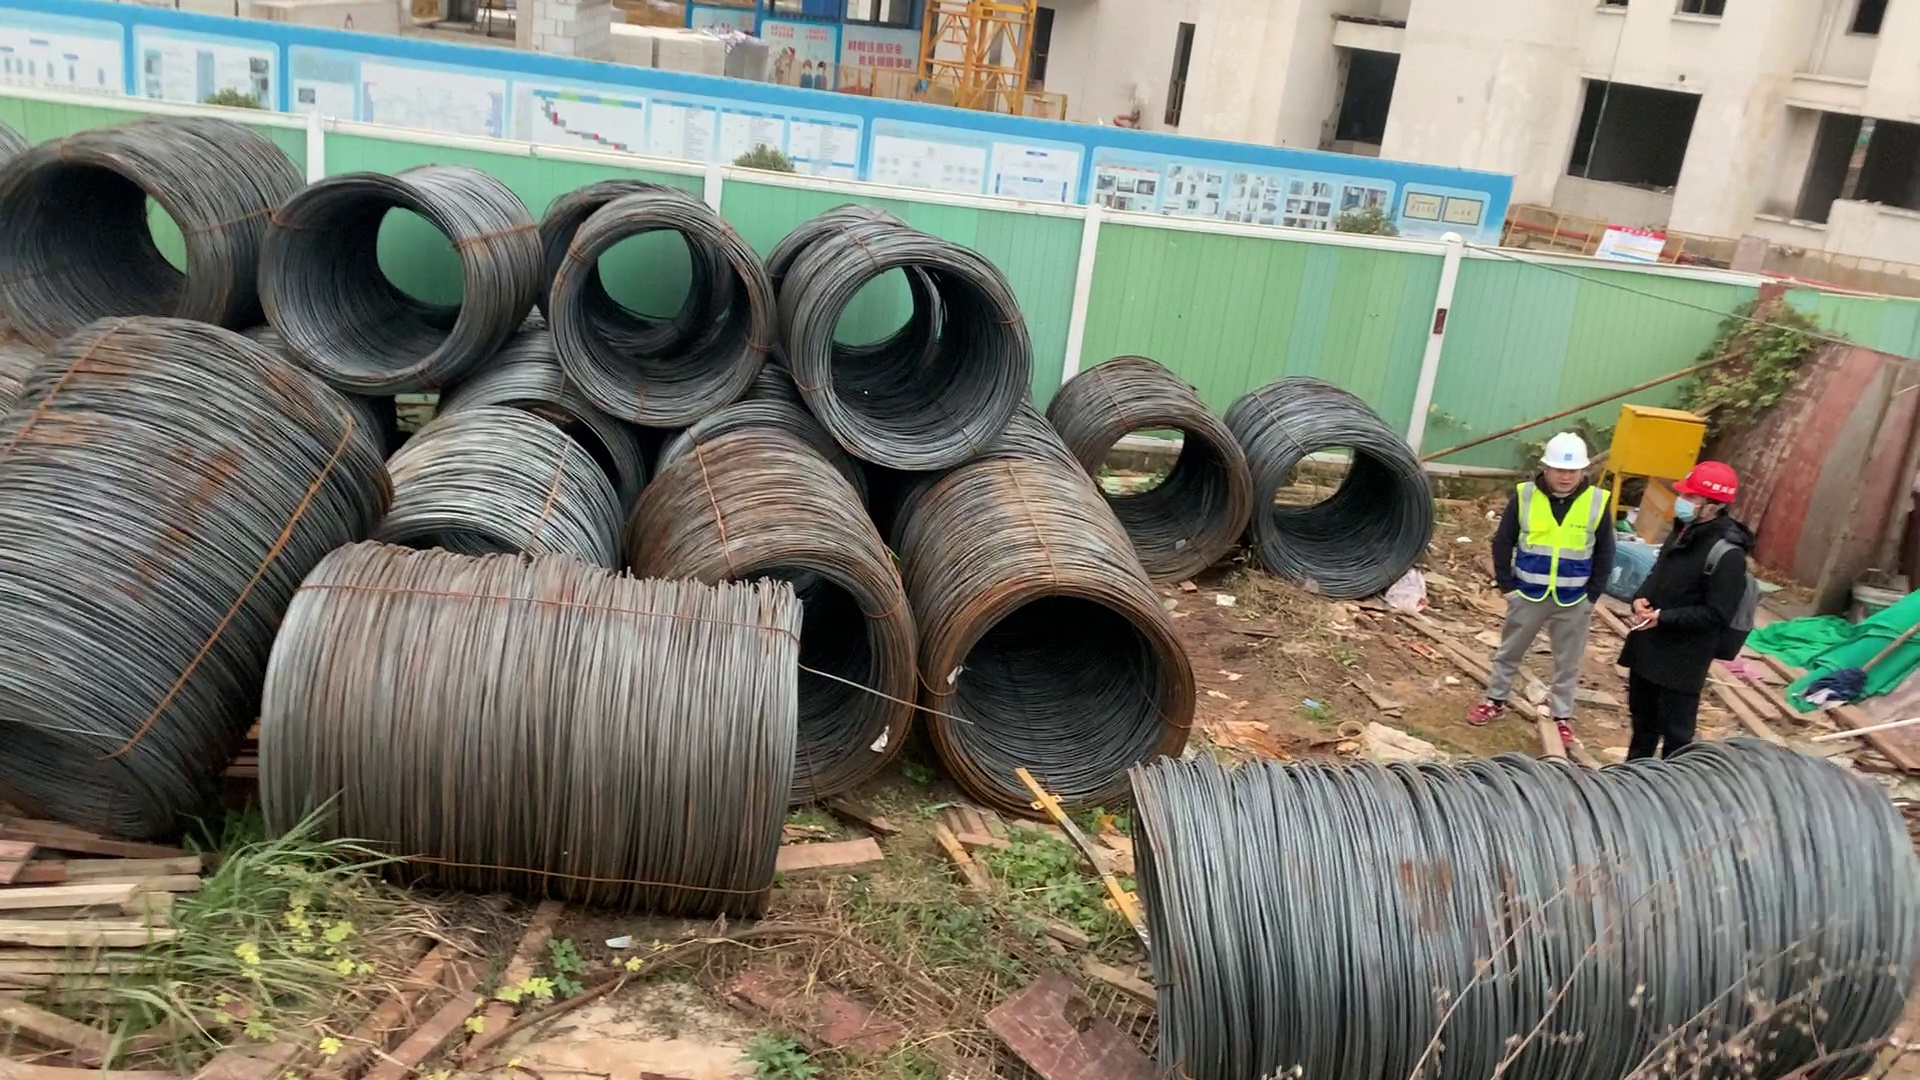coil: (676, 553, 905, 814), (932, 588, 1196, 793), (822, 247, 1018, 479), (262, 185, 483, 388), (15, 146, 215, 368), (554, 214, 760, 427), (1085, 404, 1261, 588), (1265, 433, 1437, 599), (11, 724, 207, 862), (375, 502, 549, 578)
